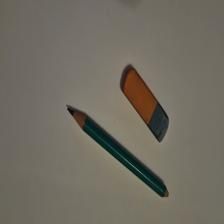eraser: (122, 69, 170, 144)
pencil: (68, 109, 170, 199)
